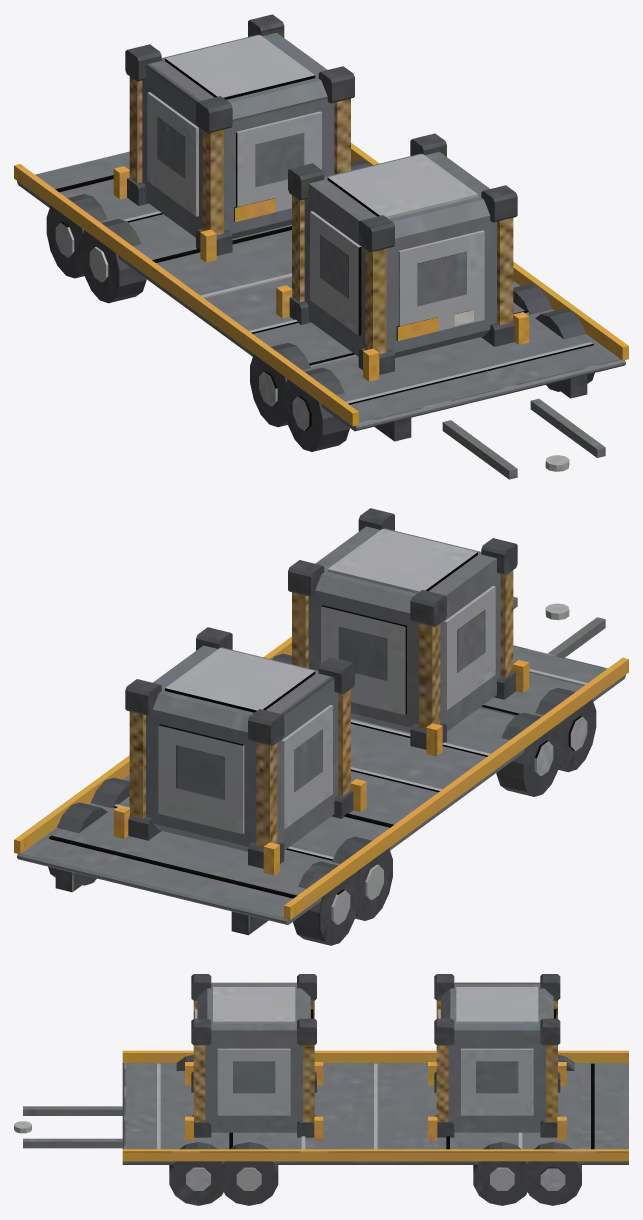
File: cargo_lift_tex.glb
The picture shows the model from 3 angles, top to bottom: view 1: azimuth 30°, elevation 25°; view 2: azimuth 150°, elevation 25°; view 3: azimuth 270°, elevation 25°; orthographic projection. The views are drawn at different scales.
Parts seen in each view (by area): view 1: cargo_lift_base, cargo_lift_cube_a, cargo_lift_cube_b; view 2: cargo_lift_base, cargo_lift_cube_b, cargo_lift_cube_a; view 3: cargo_lift_base, cargo_lift_cube_b, cargo_lift_cube_a.
Boxes of the visible parts, x1,y1,x2,y2 form: cargo_lift_base: (14,143,628,479); cargo_lift_cube_a: (288,133,517,374); cargo_lift_cube_b: (125,14,354,255); cargo_lift_base: (14,596,628,945); cargo_lift_cube_b: (125,627,354,868); cargo_lift_cube_a: (288,508,517,749); cargo_lift_base: (14,1050,628,1205); cargo_lift_cube_b: (434,974,560,1137); cargo_lift_cube_a: (191,974,316,1137).
Size of the model in its own units: 0.663 by 0.4739 by 1.7.
Materials: 1 (1 with a texture image).
